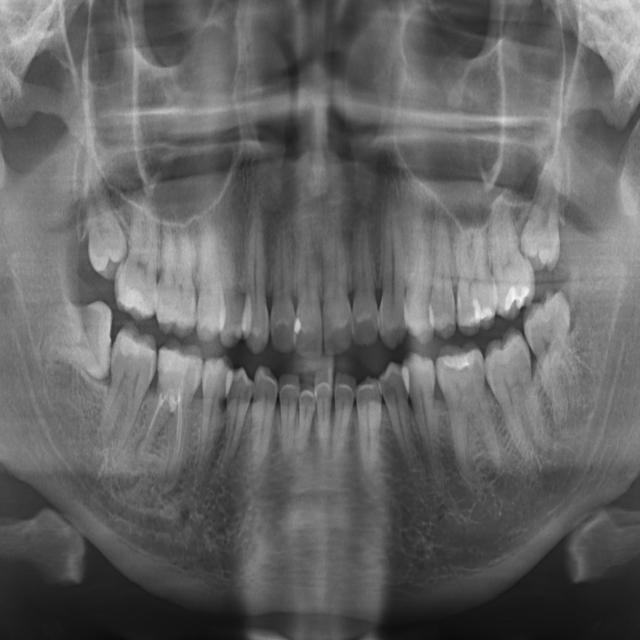CompositeResinRestoration: (158, 340, 188, 380), (116, 322, 143, 359), (500, 285, 529, 314), (440, 348, 472, 370), (473, 298, 494, 327), (292, 315, 304, 341)
DentalCaries: (469, 355, 484, 390), (456, 294, 469, 325)
ImpactedTooth: (52, 293, 114, 379), (80, 166, 124, 276), (520, 159, 561, 274)
RootCanalTreatment: (142, 385, 190, 470)
